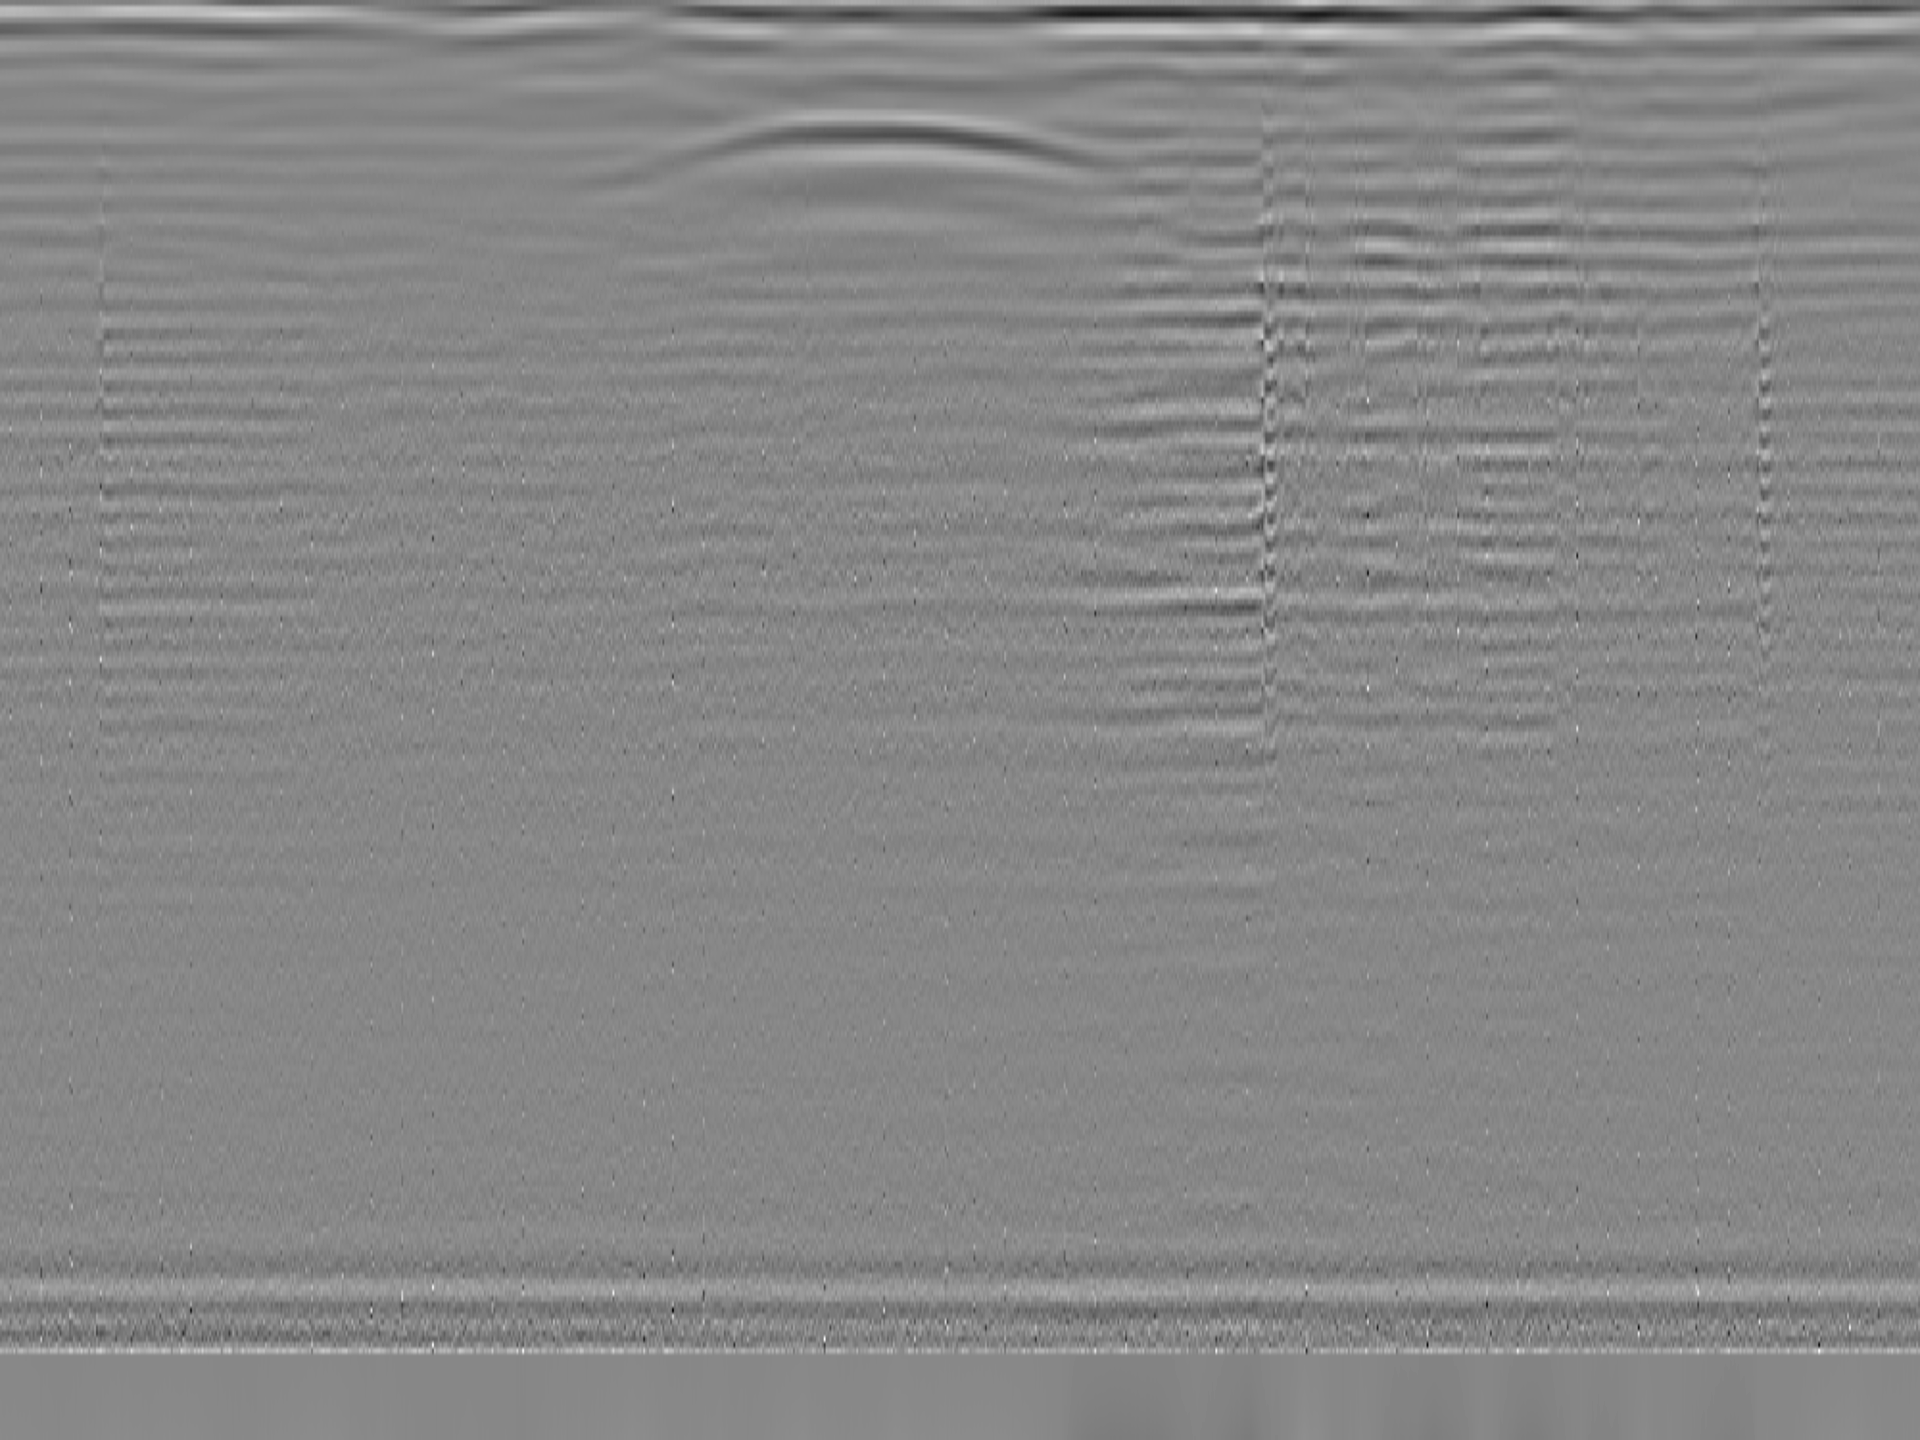Tunnel: (559, 109, 1146, 201)
